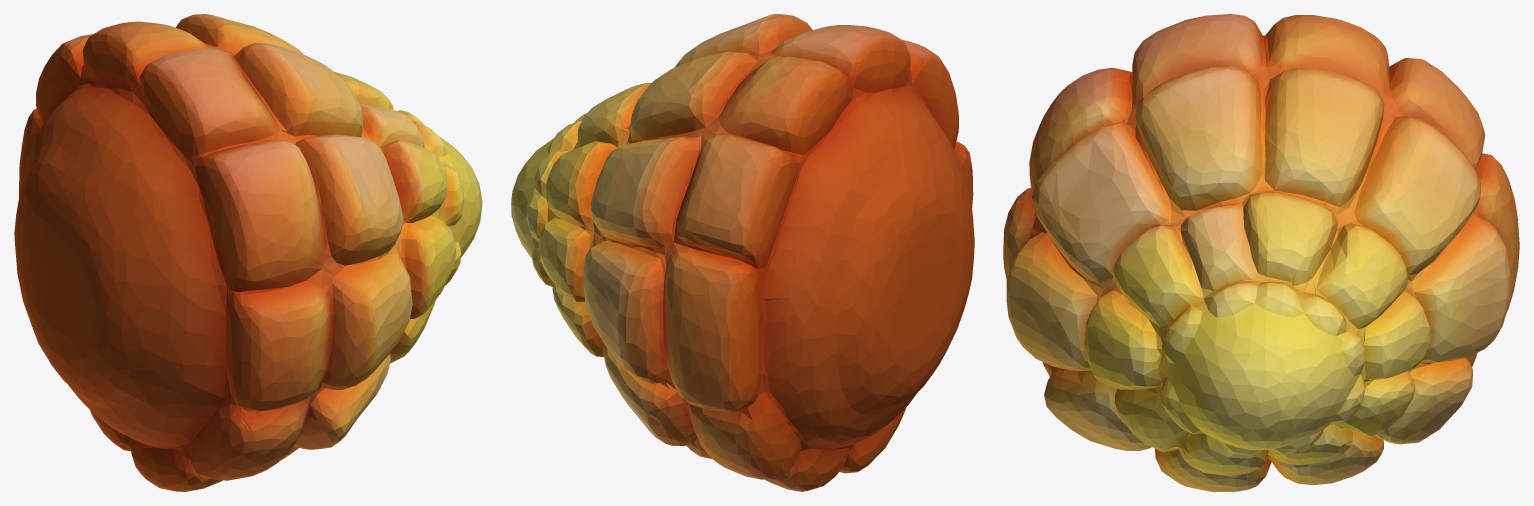
The model's file is food_pile_medium_comfyui.glb.
3 views of the same model, side by side, from view 1: azimuth 30°, elevation 25°; view 2: azimuth 150°, elevation 25°; view 3: azimuth 270°, elevation 25° (orthographic). The views are drawn at different scales.
Bounding box in the file's own units: 0.4931 × 0.4899 × 0.5138.
1 material, 1 textured.
